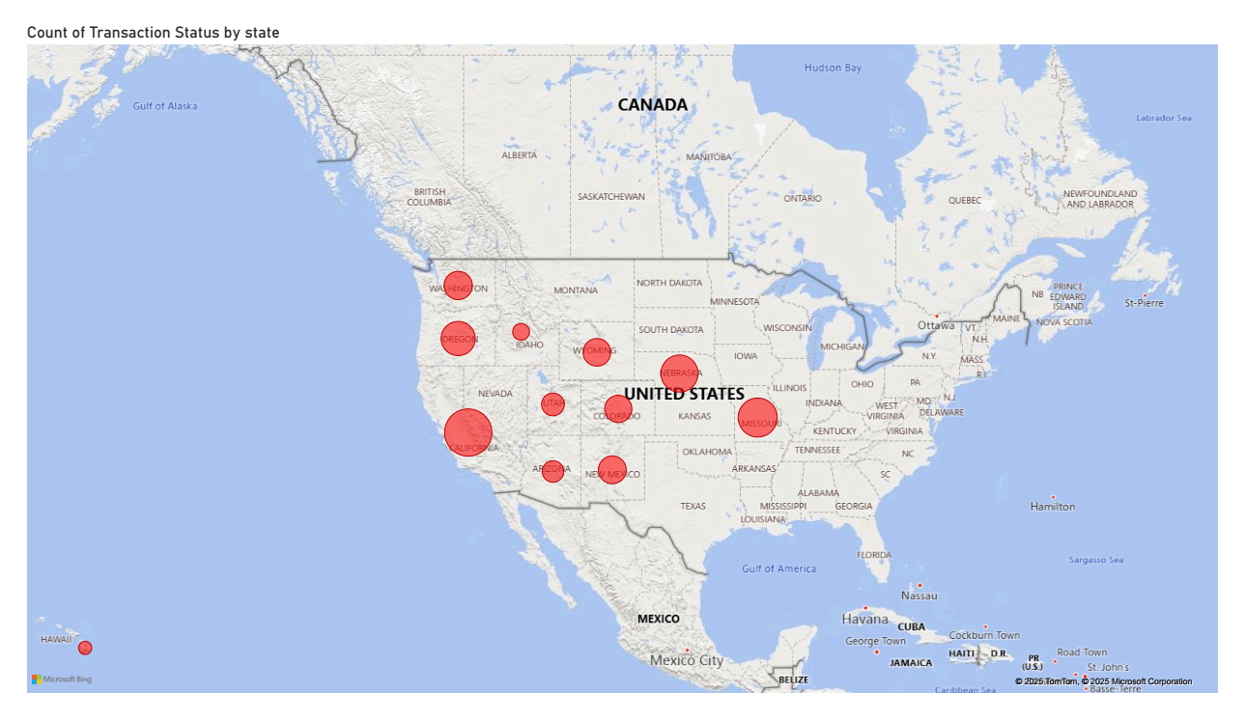

What the dashboard file says about the page in this screenshot:
{"tool":"powerbi","page":{"name":"Page 8","canvas":[1280,720],"ordinal":7},"visuals":[{"type":"map","fields":{"Category":["fraud_data.state"],"Size":["CountNonNull(fraud_data.Transaction Status)"]},"box":[0,0,1280.2,720],"z":0}]}

Visuals, with their boxes in screenshot pixels (x1, y1, x2, y2), scaled from the page's 1280x720 canvas onto the 1246x720 screenshot:
map - fraud_data.state x CountNonNull(fraud_data.Transaction Status): <region>0, 0, 1245, 719</region>
